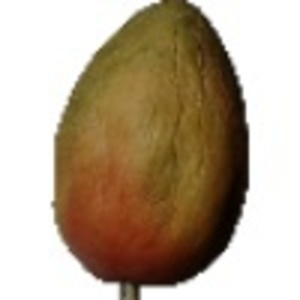mamão: (41, 5, 259, 290)
